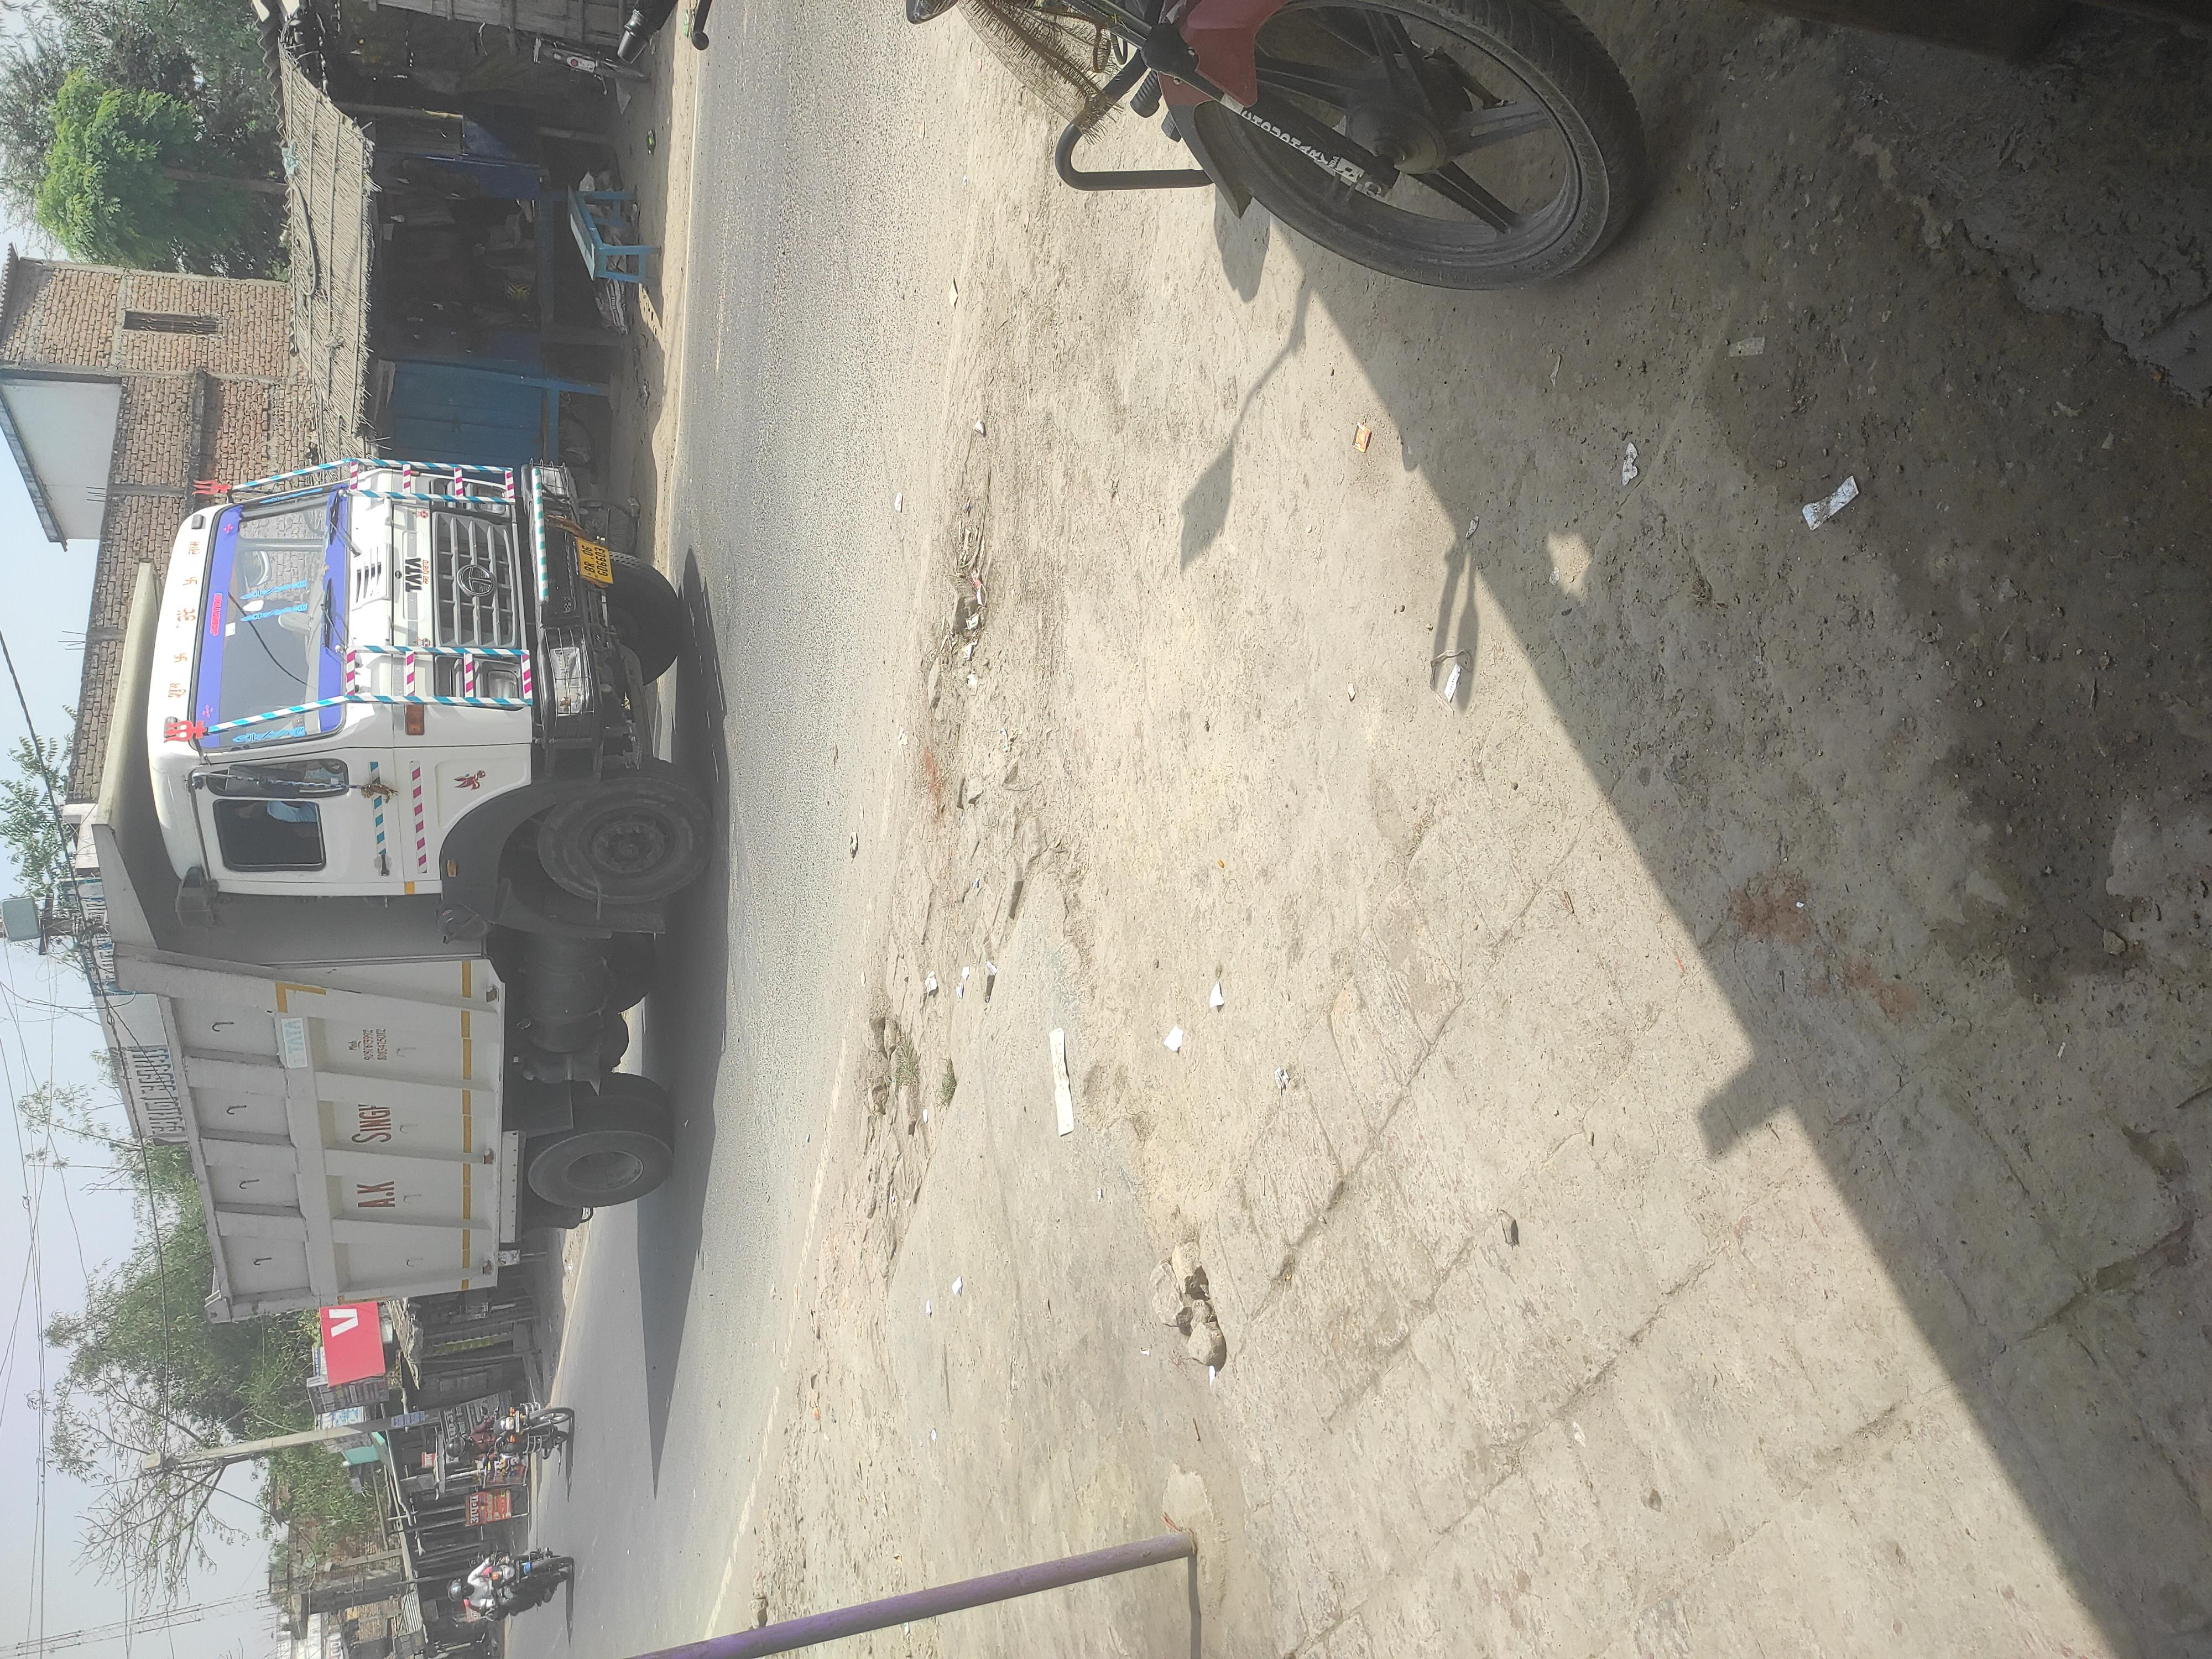Truck: (397, 52, 1632, 525)
